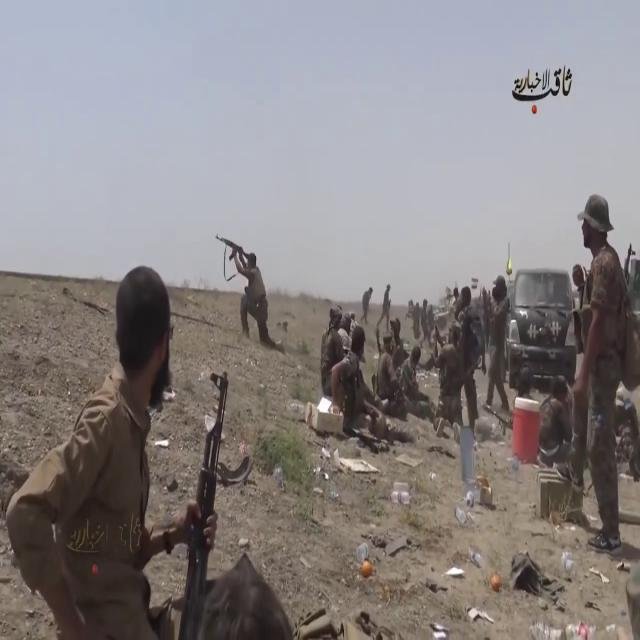long weapon: (163, 345, 250, 635), (213, 228, 249, 274)
